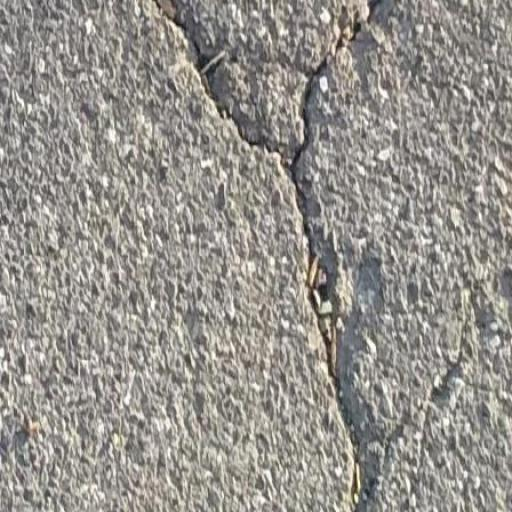spalling: (146, 0, 399, 512)
